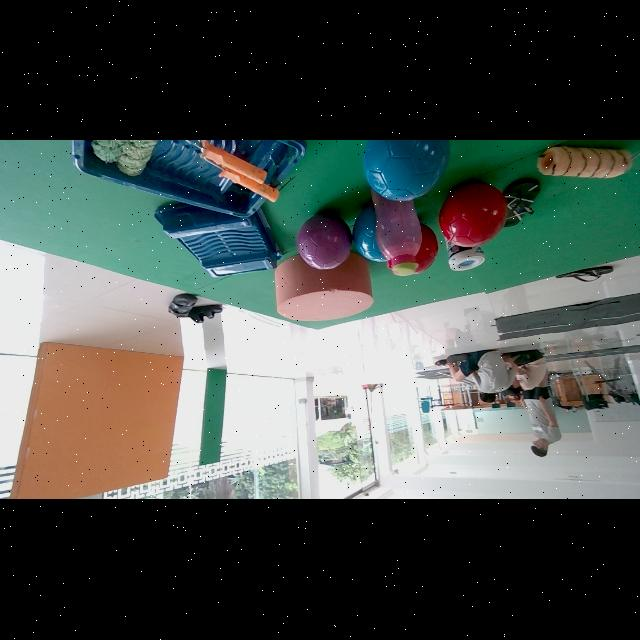B: (363, 140, 450, 201), (352, 205, 387, 263)
P: (297, 215, 351, 270)
R: (438, 183, 507, 247)
